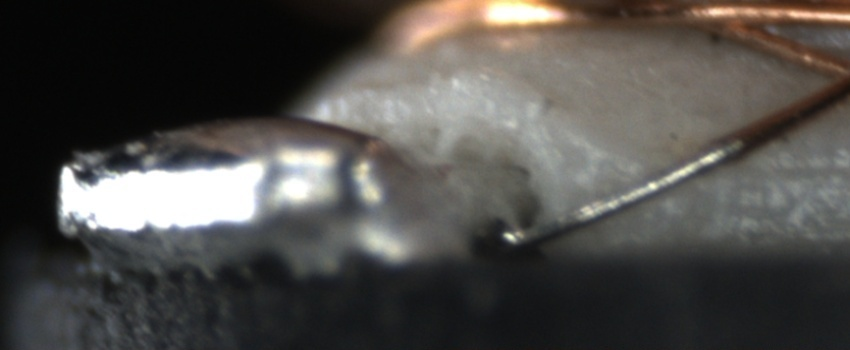CL: (805, 45, 850, 107)
DL: (745, 138, 849, 194)
TS: (502, 136, 745, 249)
